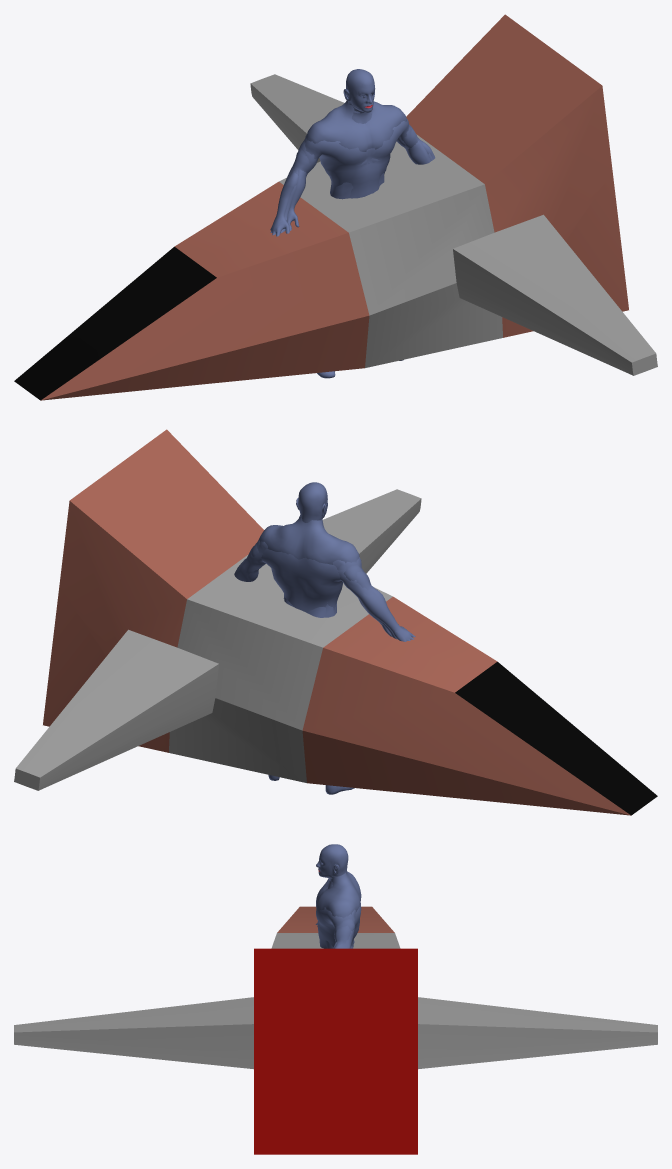
The model's file is space-ship.glb.
The picture shows the model from 3 angles, top to bottom: view 1: azimuth 30°, elevation 25°; view 2: azimuth 150°, elevation 25°; view 3: azimuth 270°, elevation 25°; orthographic projection. The views are drawn at different scales.
Visible parts, largest first — view 1: Cube, Plane.002, Plane.011, Plane.001; view 2: Cube, Plane.002, Plane.011, Plane.001; view 3: Cube, Plane.011, Plane.002, Plane.001.
Part boxes in pixels (x1,y1,x2,y2): Cube: [14, 14, 657, 400]; Plane.002: [280, 112, 432, 378]; Plane.011: [286, 101, 430, 227]; Plane.001: [270, 69, 435, 236]; Cube: [14, 429, 657, 815]; Plane.002: [242, 540, 396, 794]; Plane.011: [248, 515, 392, 636]; Plane.001: [234, 482, 415, 785]; Cube: [14, 906, 657, 1154]; Plane.011: [316, 871, 360, 948]; Plane.002: [316, 878, 361, 948]; Plane.001: [315, 844, 355, 948].
Bounding box in the file's own units: 3.85 × 1.97 × 4.6.
